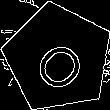O_NE: (25, 25, 91, 91)
